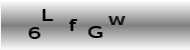6: (28, 26, 41, 39)
G: (86, 25, 103, 38)
L: (41, 8, 54, 22)
f: (68, 18, 77, 31)
w: (107, 15, 125, 25)
